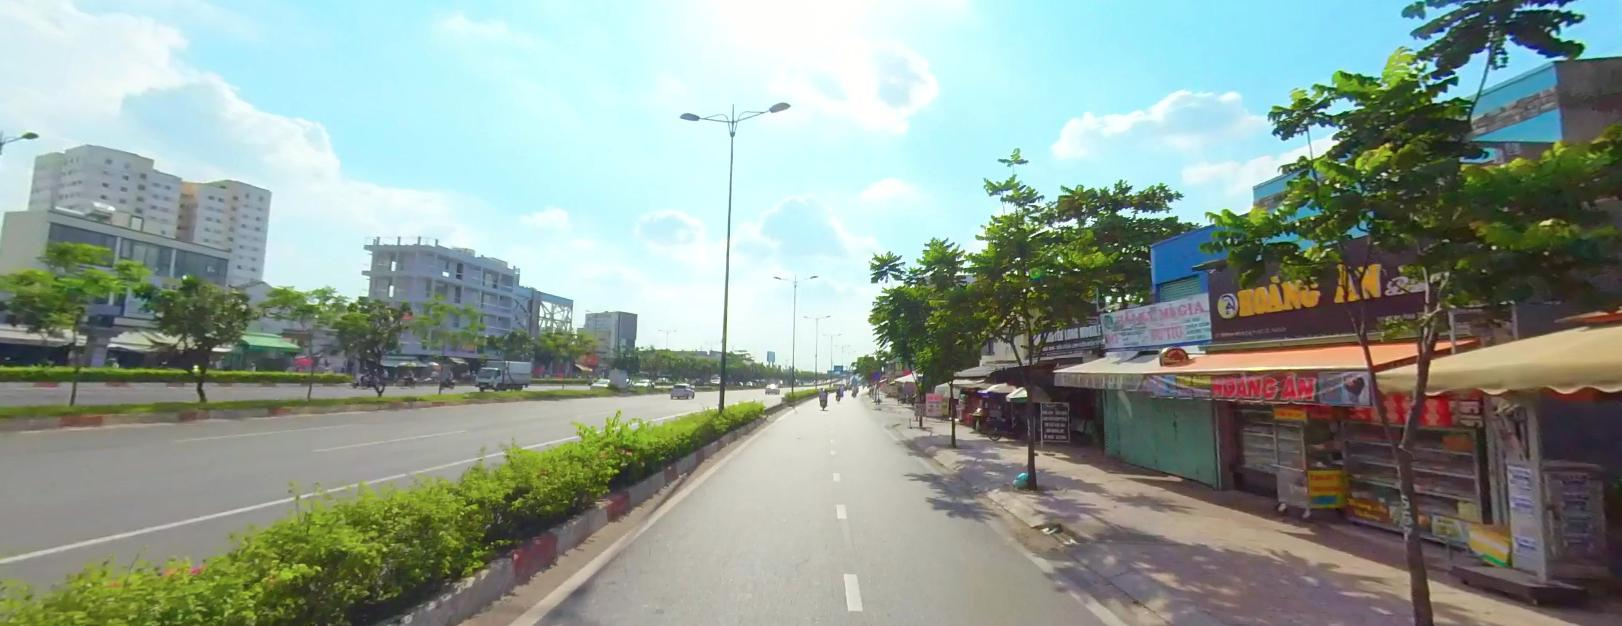Cam dung va do: (871, 369, 881, 377)
